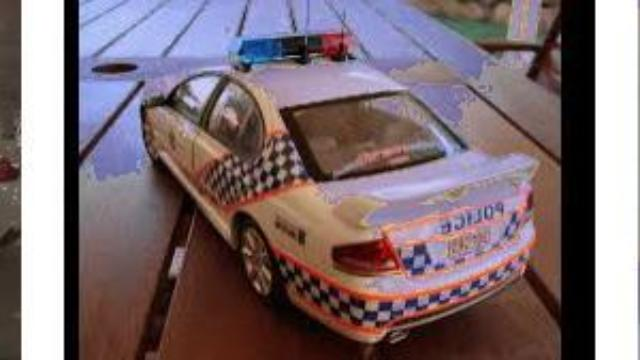police_car: (141, 30, 540, 350)
